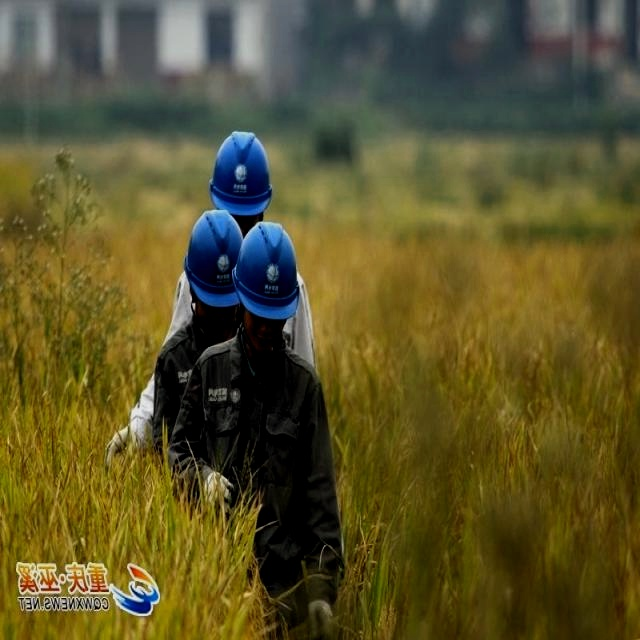Con_Casco: (232, 223, 300, 341), (209, 130, 271, 217)
